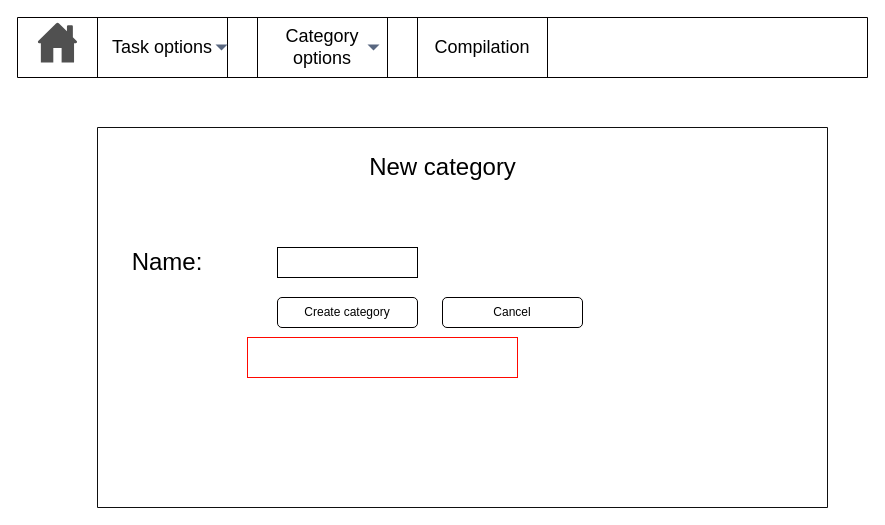
This 885x525 diagram has some shape labels left out. The box of each missing label's shape, as (x1, y1, x2, y2) in pixels:
Category name already exists.: (246, 336, 518, 378)
CSS: (276, 246, 418, 278)
